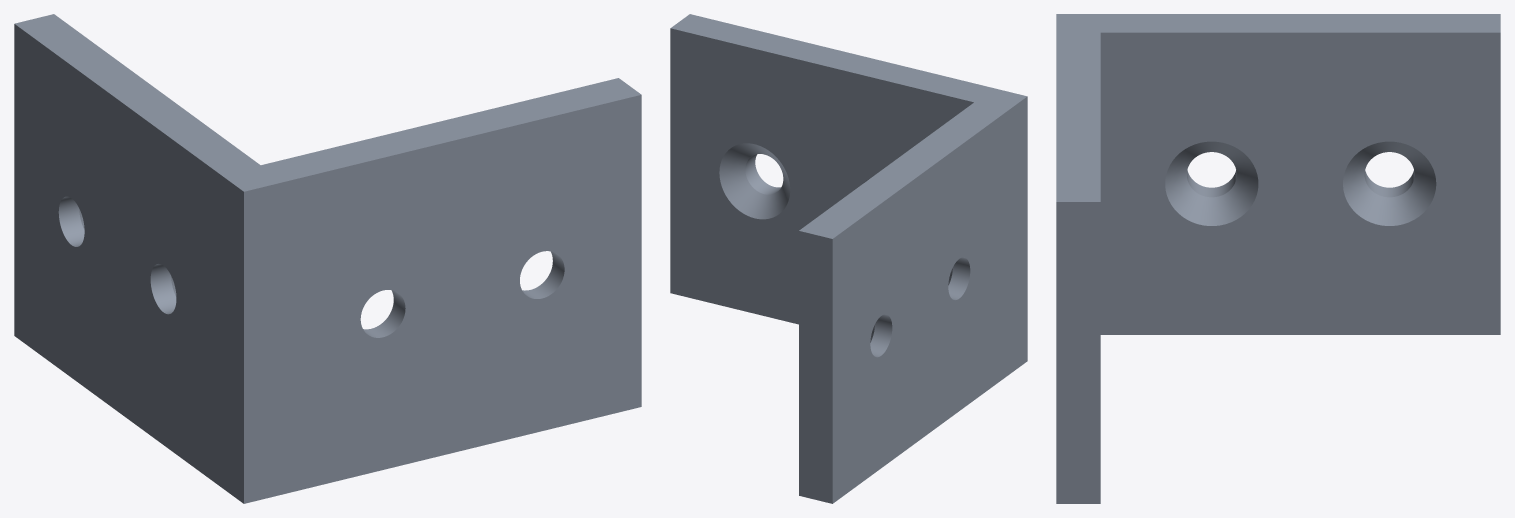
File: step-2-preview-2.glb
3 renders of one model, left to right at view 1: azimuth 30°, elevation 25°; view 2: azimuth 150°, elevation 25°; view 3: azimuth 270°, elevation 25°, orthographic. The views are drawn at different scales.
Parts seen in each view (by area): view 1: preview_0, preview_1, preview_3, preview_8, preview_9, preview_5, preview_6; view 2: preview_1, preview_10, preview_3, preview_7, preview_13, preview_8, preview_9, preview_6; view 3: preview_11, preview_3, preview_4, preview_15, preview_14, preview_8, preview_9.
Boxes of the visible parts, x1=… form: preview_0: x1=244, y1=95, x2=641, y2=503; preview_1: x1=14, y1=24, x2=243, y2=503; preview_3: x1=14, y1=14, x2=641, y2=191; preview_8: x1=58, y1=196, x2=84, y2=246; preview_9: x1=150, y1=264, x2=176, y2=314; preview_5: x1=363, y1=290, x2=405, y2=337; preview_6: x1=522, y1=251, x2=564, y2=298; preview_1: x1=832, y1=96, x2=1027, y2=503; preview_10: x1=670, y1=28, x2=973, y2=324; preview_3: x1=671, y1=14, x2=1026, y2=238; preview_7: x1=799, y1=231, x2=832, y2=503; preview_13: x1=719, y1=143, x2=790, y2=219; preview_8: x1=870, y1=314, x2=892, y2=357; preview_9: x1=948, y1=257, x2=970, y2=300; preview_6: x1=745, y1=154, x2=780, y2=194; preview_11: x1=1100, y1=32, x2=1500, y2=334; preview_3: x1=1056, y1=14, x2=1500, y2=201; preview_4: x1=1056, y1=202, x2=1100, y2=503; preview_15: x1=1165, y1=141, x2=1258, y2=225; preview_14: x1=1343, y1=141, x2=1436, y2=225; preview_8: x1=1364, y1=170, x2=1414, y2=197; preview_9: x1=1187, y1=170, x2=1236, y2=197.
Bounding box in the file's own units: 0.04 × 0.03 × 0.04.
